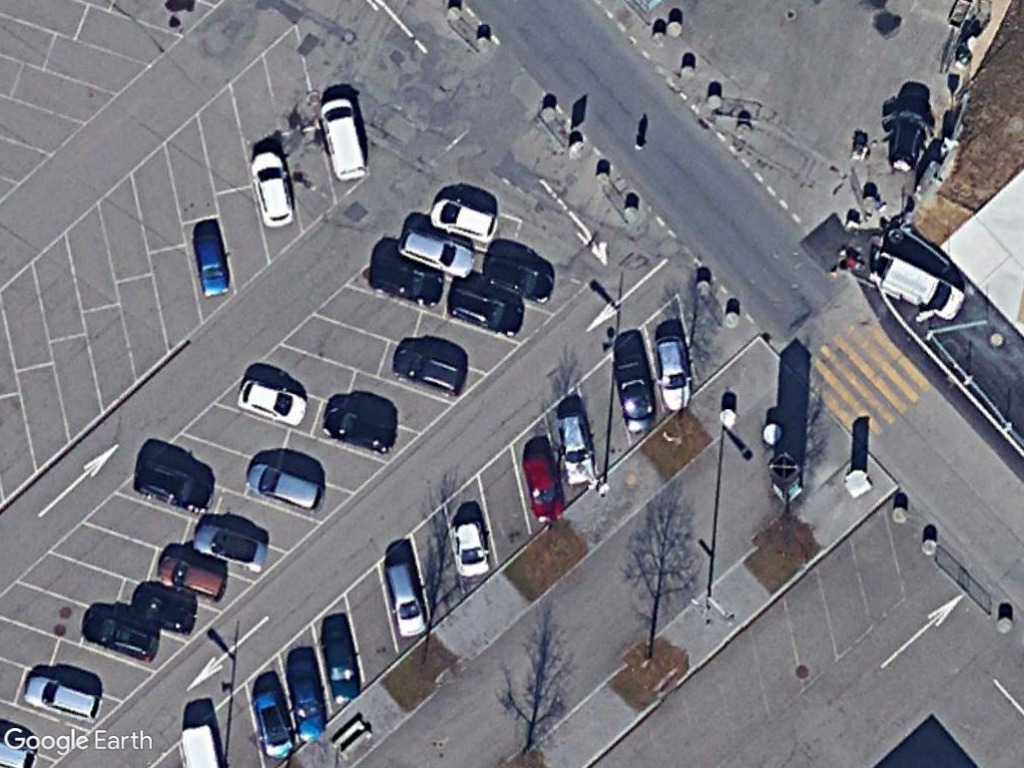car: (318, 95, 371, 182), (21, 673, 105, 727), (396, 227, 476, 279), (189, 522, 270, 573), (243, 463, 325, 511), (249, 150, 296, 229), (383, 560, 428, 640), (157, 554, 230, 603), (427, 197, 501, 245), (235, 379, 308, 426), (653, 332, 693, 413), (523, 451, 567, 524), (555, 411, 595, 487), (190, 229, 232, 298)
van: (879, 251, 965, 322)
